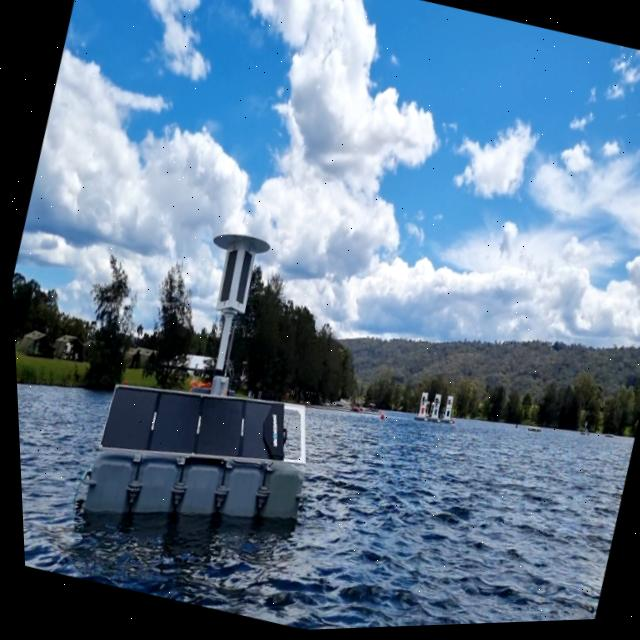led: (227, 248, 255, 311), (214, 252, 240, 303)
